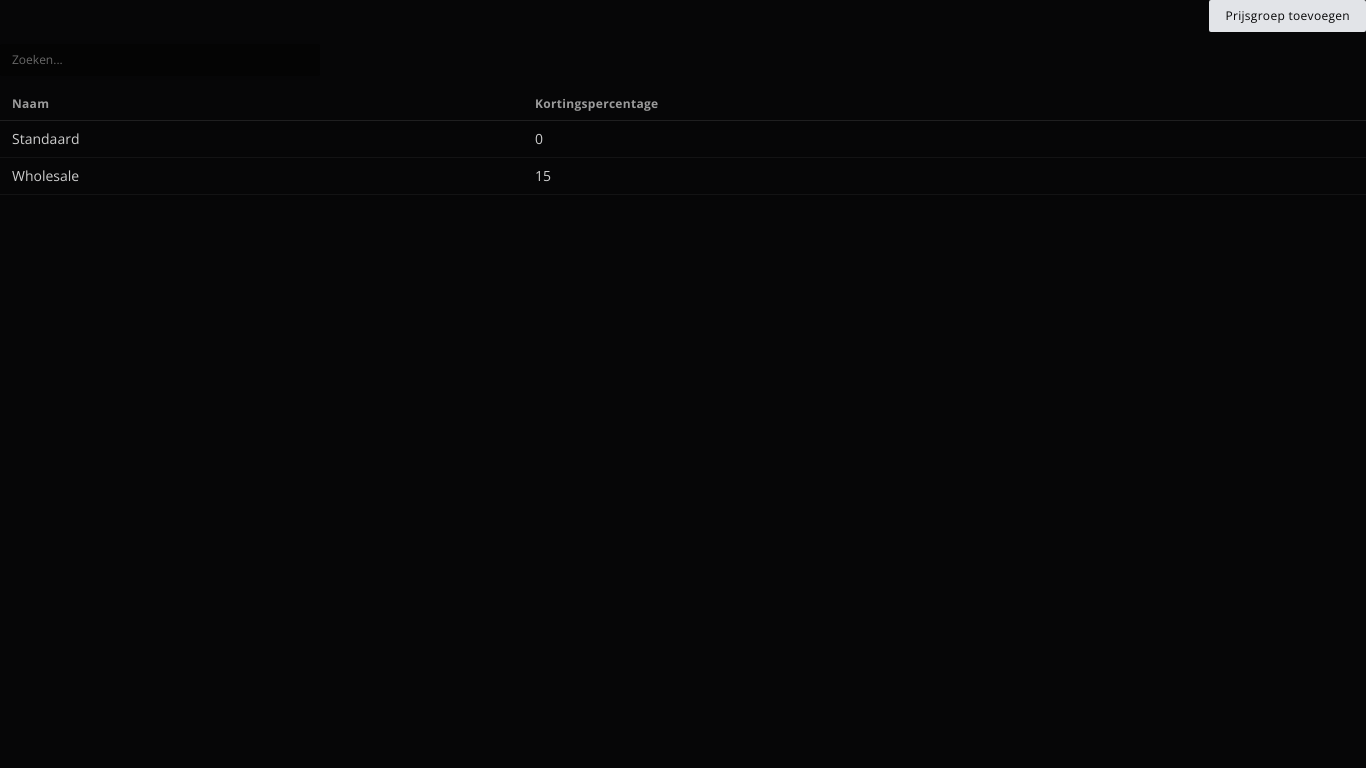
Test: PrijsgroepenSection › disables Opslaan until naam is filled in
Click the button with test id "prijsgroepen-add" at (1288, 16), box [1210, 0, 1365, 32]
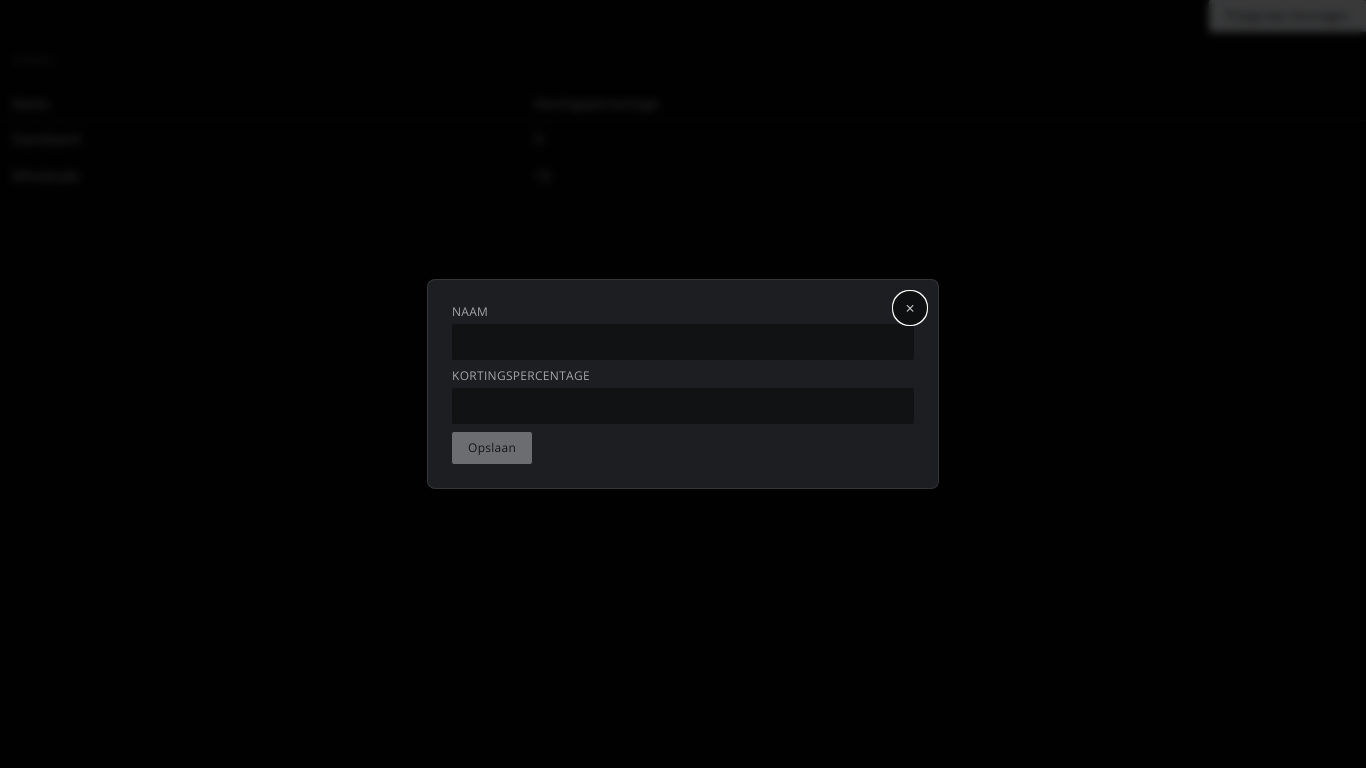
Now the button with test id "prijsgroep-modal-opslaan" is disabled, box [452, 432, 532, 464]
Type "X" into the field with test id "prijsgroep-modal-naam" at (683, 342), box [452, 324, 914, 360]
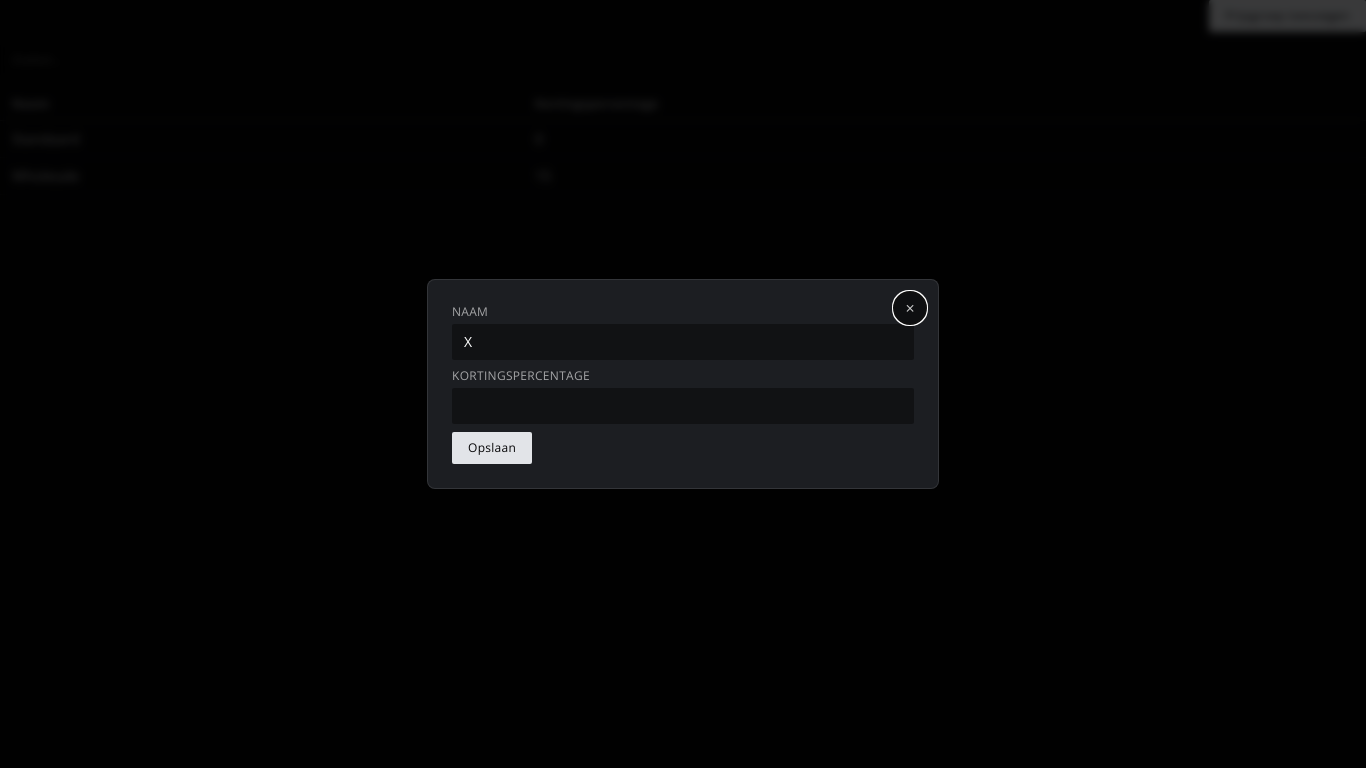
Now the button with test id "prijsgroep-modal-opslaan" is enabled, box [452, 432, 532, 464]
